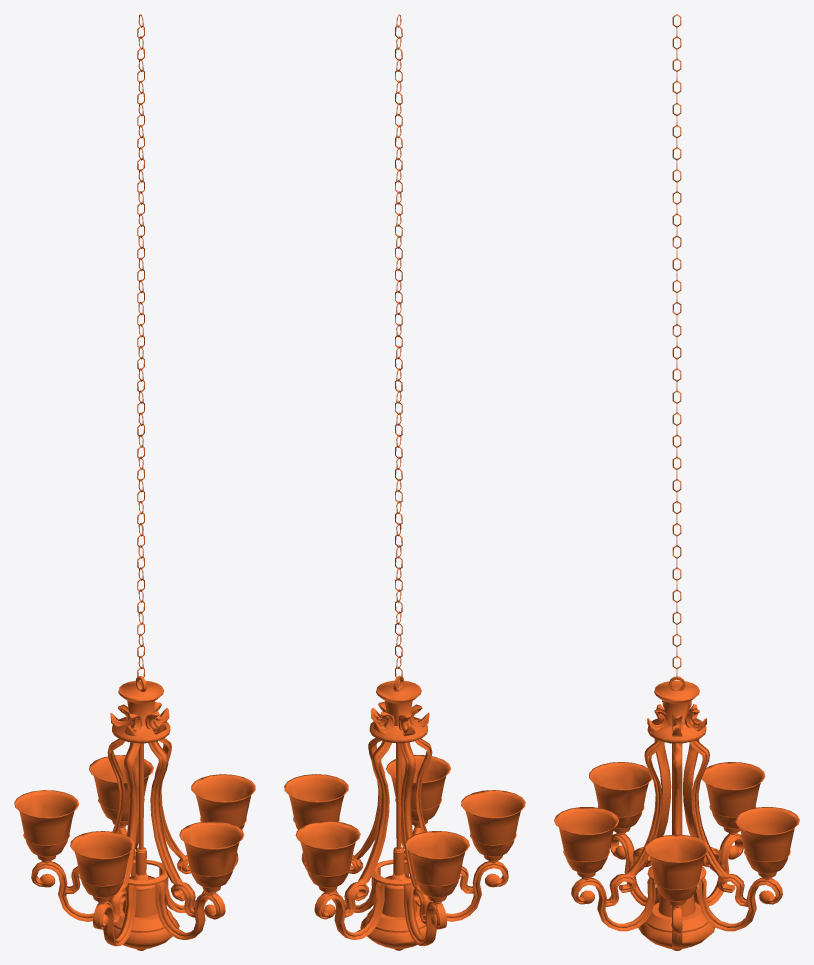
File: chandelier_half.obj
3 views of the same model, side by side, from view 1: azimuth 30°, elevation 25°; view 2: azimuth 150°, elevation 25°; view 3: azimuth 270°, elevation 25° (orthographic).
Visible parts, largest first — view 1: BezierCurve; view 2: BezierCurve; view 3: BezierCurve.
Part boxes in pixels (box(x1,y1,x2,y2)): BezierCurve: box(14, 14, 255, 950); BezierCurve: box(284, 14, 525, 950); BezierCurve: box(554, 14, 799, 950).
Bounding box in the file's own units: 6.17 × 26.87 × 6.4.
